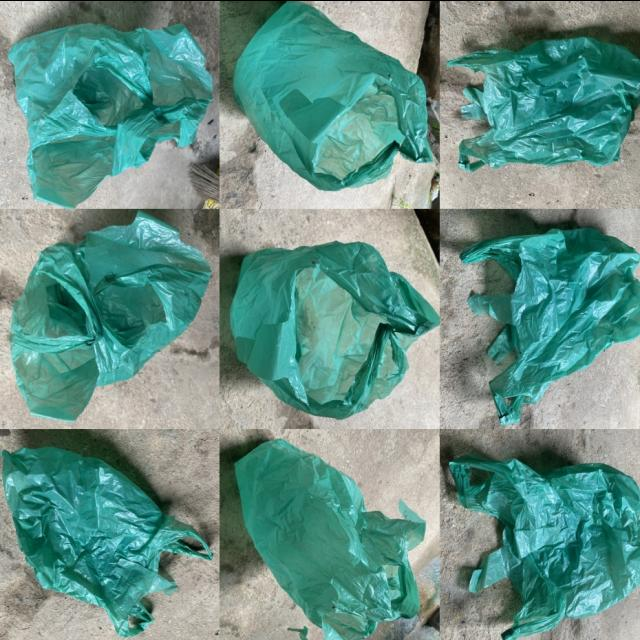plastik: (10, 211, 210, 421), (2, 446, 212, 637), (235, 438, 426, 640), (234, 1, 432, 190), (230, 241, 439, 419), (9, 24, 212, 207), (450, 453, 640, 640), (461, 228, 640, 424), (447, 37, 640, 171)
